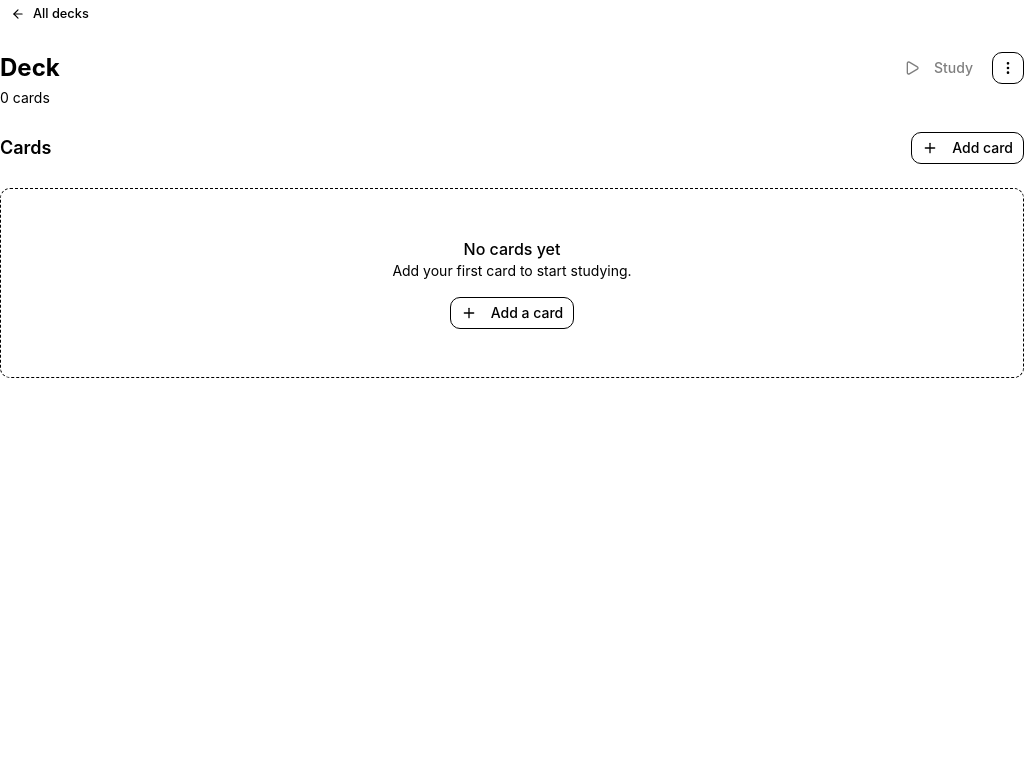
Test: DeckDetailPage › opens the add-card dialog
Expected: the text "No cards yet" is shown, [464,239,560,259]
Click the button "Add a card".
click(512, 313)  # box [450,297,574,329]
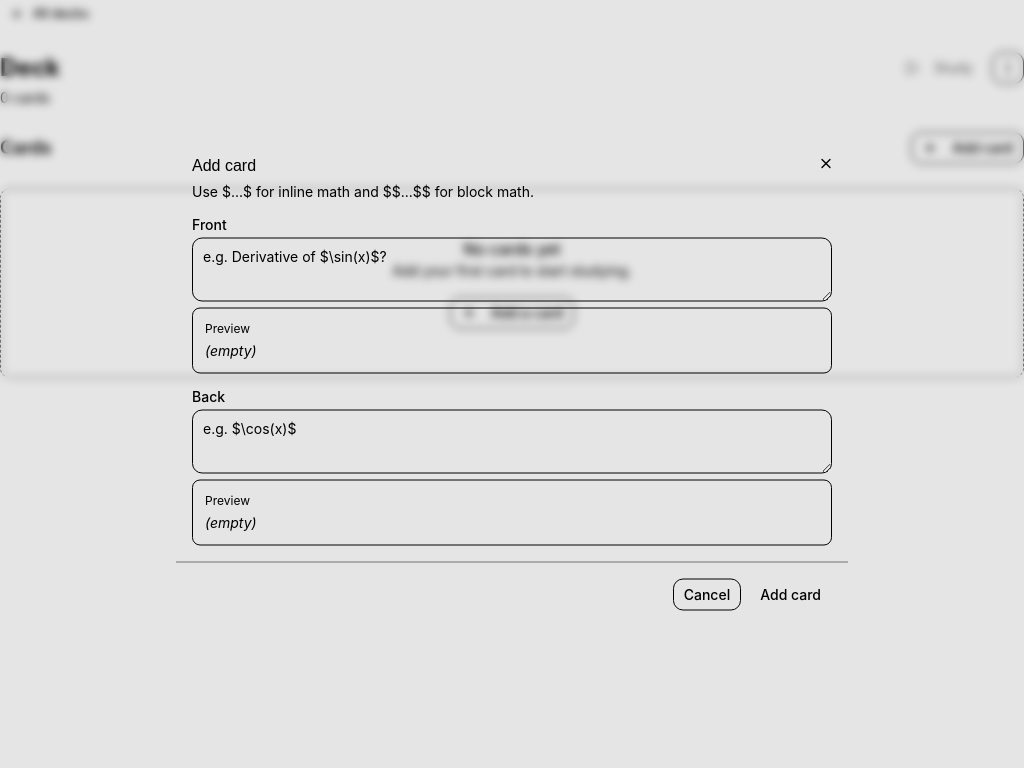
Expected: the dialog is shown, [176,142,848,626]
Expected: the text "Use $...$ for inline math and $$...$$ for block math." is shown, [192,182,534,200]
